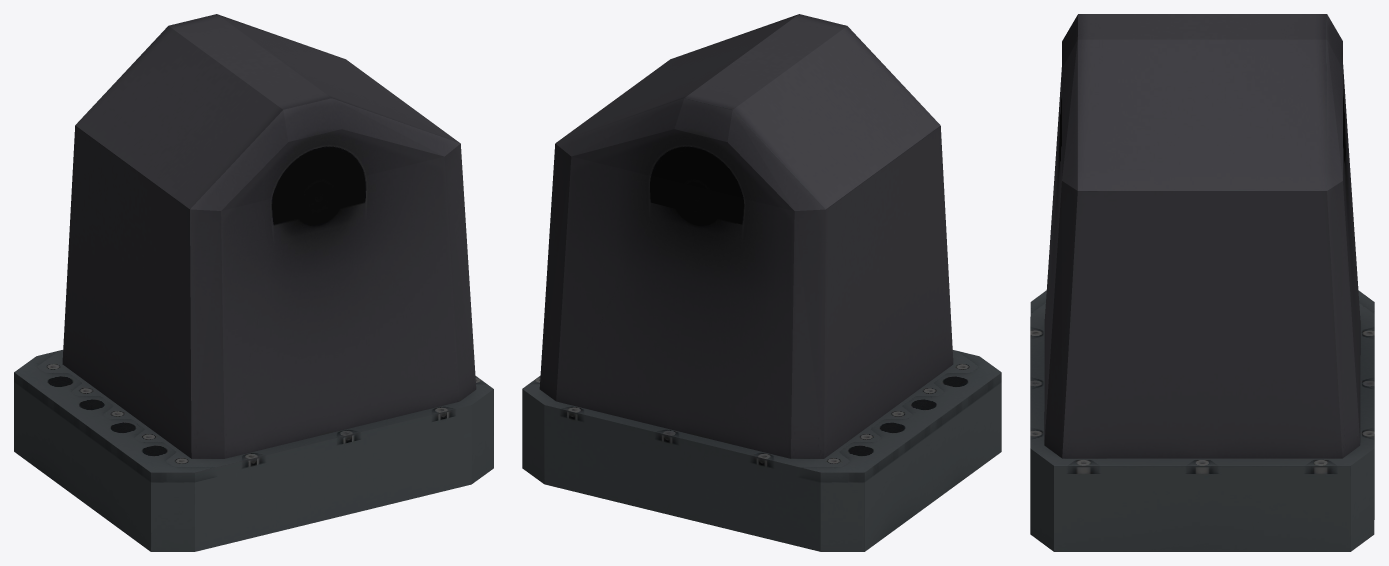
Rendered from pan.dae.
3 renders of one model, left to right at view 1: azimuth 30°, elevation 25°; view 2: azimuth 150°, elevation 25°; view 3: azimuth 270°, elevation 25°, orthographic. The views are drawn at different scales.
Visible parts, largest first — view 1: AM3 Application Hatch LP.001; view 2: AM3 Application Hatch LP.001; view 3: AM3 Application Hatch LP.001.
Part boxes in pixels (x1=…): AM3 Application Hatch LP.001: x1=14, y1=14, x2=493, y2=551; AM3 Application Hatch LP.001: x1=522, y1=14, x2=1001, y2=551; AM3 Application Hatch LP.001: x1=1030, y1=14, x2=1374, y2=551.
Bounding box in the file's own units: 0.1446 × 0.1161 × 0.1608.
1 material, 1 textured.
